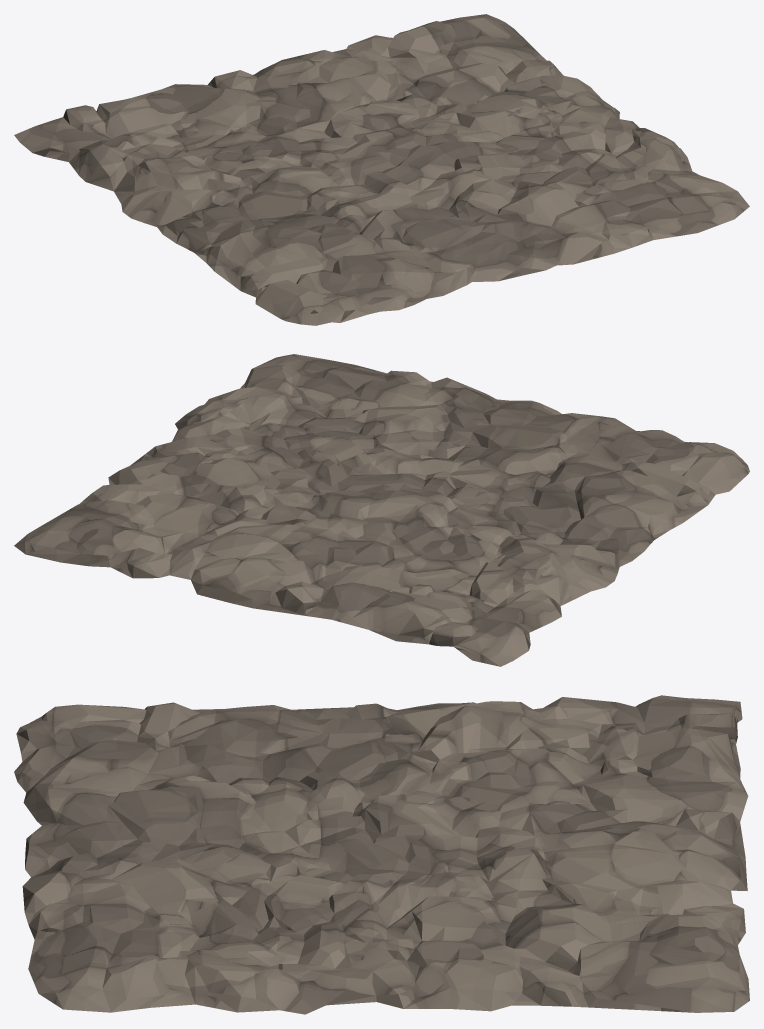
Rendered from synty-rock-tile-01.gltf.
3 views of the same model, one above another, from view 1: azimuth 30°, elevation 25°; view 2: azimuth 150°, elevation 25°; view 3: azimuth 270°, elevation 25° (orthographic). The views are drawn at different scales.
Visible parts, largest first — view 1: SM_Rock_Tile_01; view 2: SM_Rock_Tile_01; view 3: SM_Rock_Tile_01.
Part boxes in pixels (x1=…): SM_Rock_Tile_01: x1=14, y1=14, x2=749, y2=325; SM_Rock_Tile_01: x1=14, y1=354, x2=749, y2=666; SM_Rock_Tile_01: x1=14, y1=695, x2=749, y2=1014.
Bounding box in the file's own units: 12.92 × 0.6976 × 12.72.
Materials: 1 (1 with a texture image).
